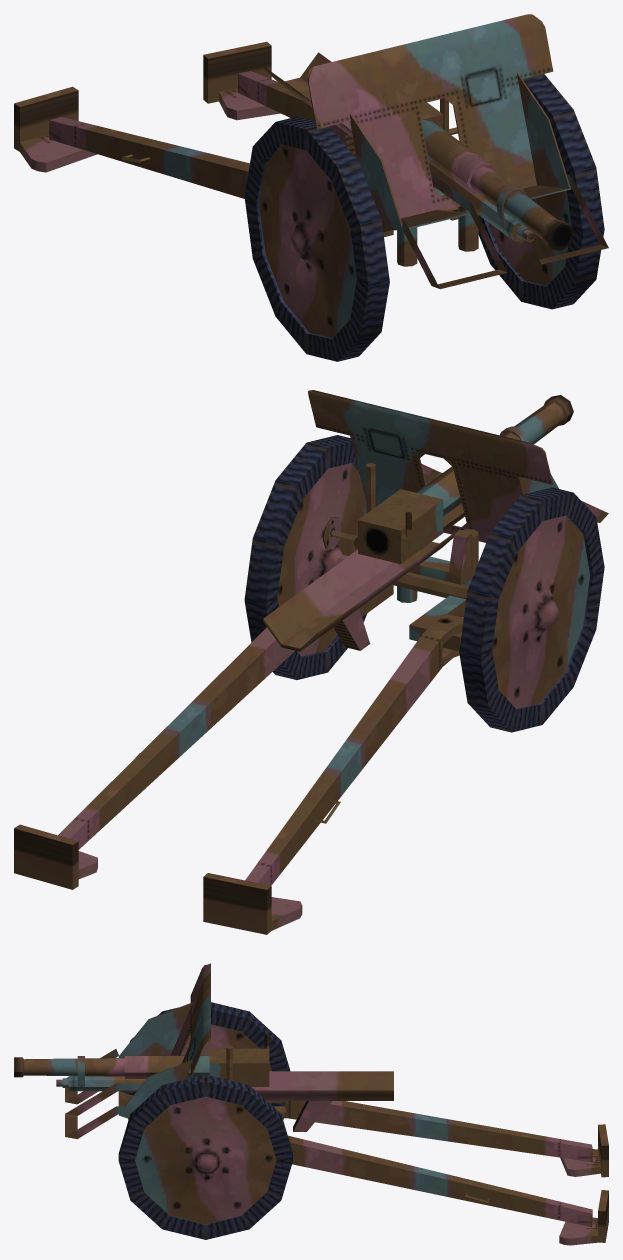
The model's file is JPNType91_105mm.dae.
The picture shows the model from 3 angles, top to bottom: view 1: azimuth 30°, elevation 25°; view 2: azimuth 150°, elevation 25°; view 3: azimuth 270°, elevation 25°; orthographic projection. The views are drawn at different scales.
Parts seen in each view (by area): view 1: wheels, carriage, trail1, barrel, trail2, sleeve, turret; view 2: wheels, carriage, trail1, trail2, sleeve, barrel, turret; view 3: wheels, trail2, trail1, carriage, sleeve, barrel.
Boxes of the visible parts, left/top/right/bottom form: wheels: left=244, top=74, right=604, bottom=361; carriage: left=308, top=14, right=608, bottom=289; trail1: left=14, top=86, right=249, bottom=198; barrel: left=420, top=102, right=573, bottom=250; trail2: left=203, top=41, right=314, bottom=120; sleeve: left=263, top=52, right=535, bottom=242; turret: left=397, top=98, right=478, bottom=266; wheels: left=244, top=435, right=604, bottom=732; carriage: left=308, top=390, right=608, bottom=651; trail1: left=203, top=614, right=463, bottom=934; trail2: left=14, top=627, right=294, bottom=889; sleeve: left=263, top=426, right=528, bottom=651; barrel: left=358, top=395, right=573, bottom=564; turret: left=323, top=463, right=478, bottom=617; wheels: left=118, top=1002, right=292, bottom=1239; trail2: left=288, top=1135, right=608, bottom=1245; trail1: left=267, top=1101, right=608, bottom=1177; carriage: left=65, top=963, right=210, bottom=1139; sleeve: left=56, top=1056, right=393, bottom=1131; barrel: left=14, top=1033, right=269, bottom=1086.
Size of the model in its own units: 11.11 by 30.33 by 11.18.
